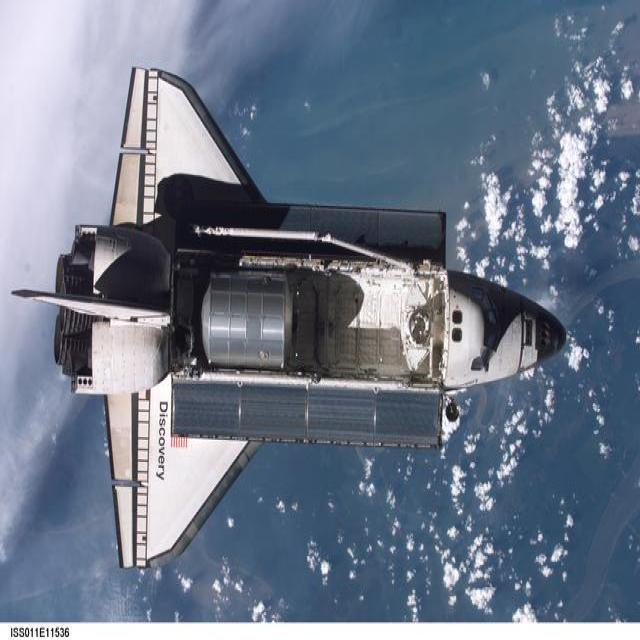medium_debris: (16, 68, 565, 566)
